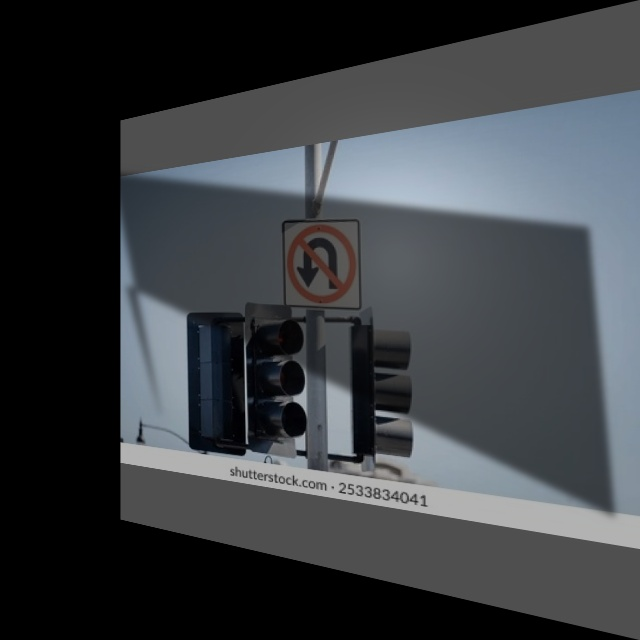U_Turn_Prohibited: (284, 214, 365, 307)
